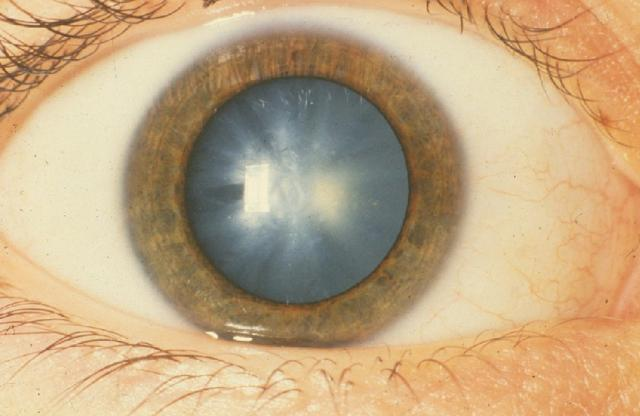eye: (124, 32, 470, 350)
